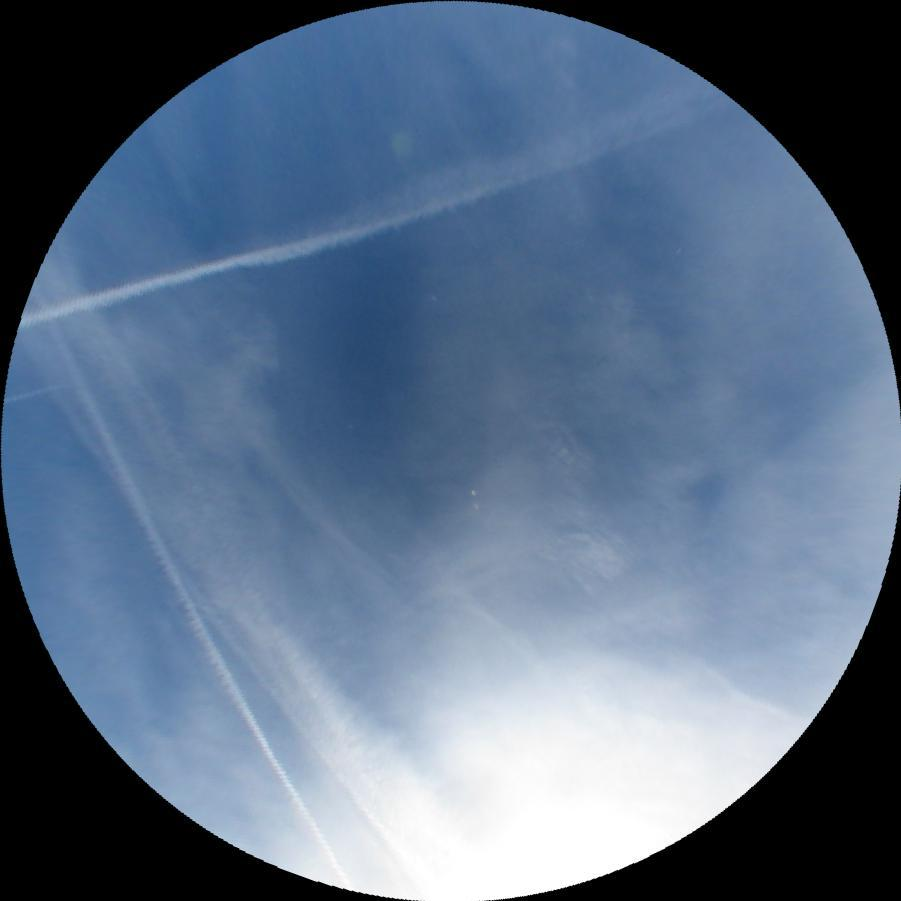contrail old: (16, 286, 356, 901)
contrail veryold: (10, 75, 736, 344)
contrail young: (1, 378, 69, 403)
